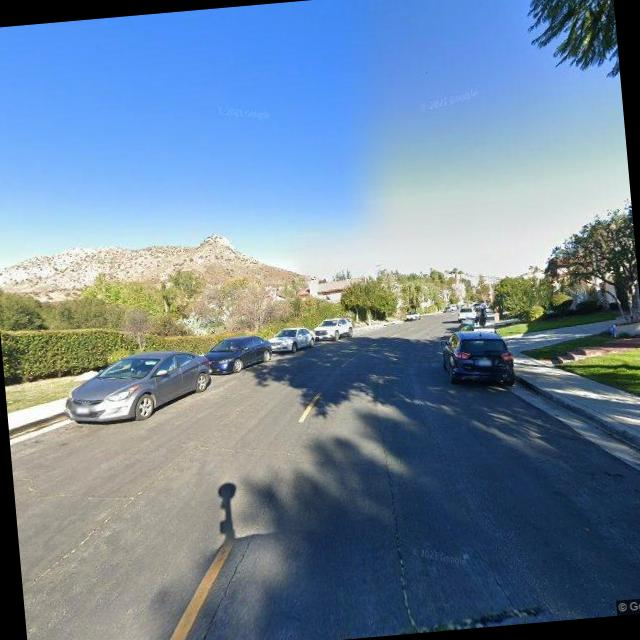crack: (12, 456, 190, 589), (366, 375, 424, 633), (184, 419, 380, 482), (12, 454, 136, 514), (476, 541, 528, 619)
